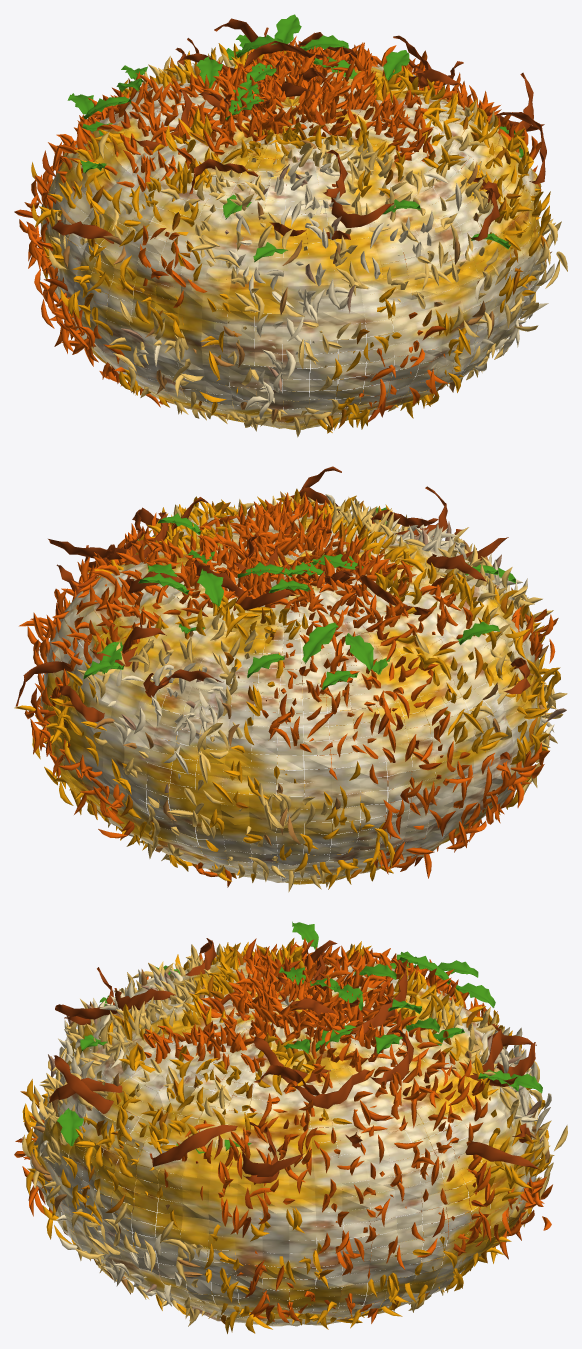
The model's file is biryani-rice-mound.glb.
3 renders of one model, top to bottom at view 1: azimuth 30°, elevation 25°; view 2: azimuth 150°, elevation 25°; view 3: azimuth 270°, elevation 25°, orthographic.
Visible parts, largest first — view 1: rice-mound-core, individual-basmati-grains, mound-birista-garnish, mound-cilantro-flecks; view 2: rice-mound-core, individual-basmati-grains, mound-birista-garnish, mound-cilantro-flecks; view 3: rice-mound-core, individual-basmati-grains, mound-birista-garnish, mound-cilantro-flecks.
Boxes of the visible parts, box(x1,y1,x2,y2) form: rice-mound-core: box(40, 56, 542, 429); individual-basmati-grains: box(14, 32, 567, 437); mound-birista-garnish: box(52, 18, 546, 243); mound-cilantro-flecks: box(67, 14, 523, 262); rice-mound-core: box(40, 510, 542, 884); individual-basmati-grains: box(14, 488, 567, 892); mound-birista-garnish: box(15, 466, 530, 722); mound-cilantro-flecks: box(83, 507, 515, 690); rice-mound-core: box(30, 962, 539, 1326); individual-basmati-grains: box(14, 938, 567, 1333); mound-birista-garnish: box(48, 938, 539, 1183); mound-cilantro-flecks: box(57, 921, 542, 1153).
Size of the model in its own units: 0.2181 by 0.1417 by 0.2178.
4 materials, 2 textured.
